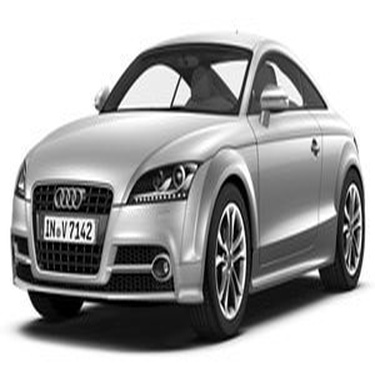car: (1, 32, 370, 342)
